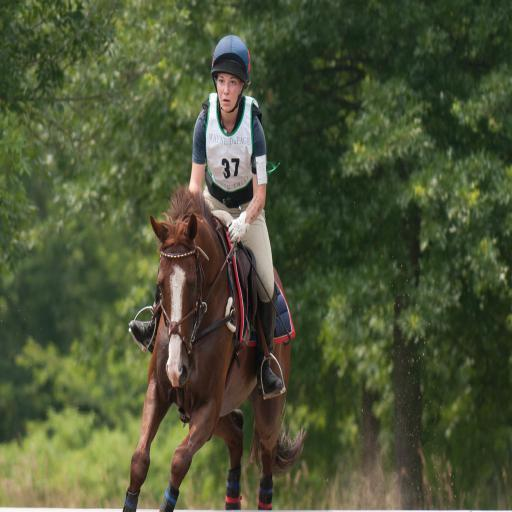horse: (123, 186, 308, 509)
